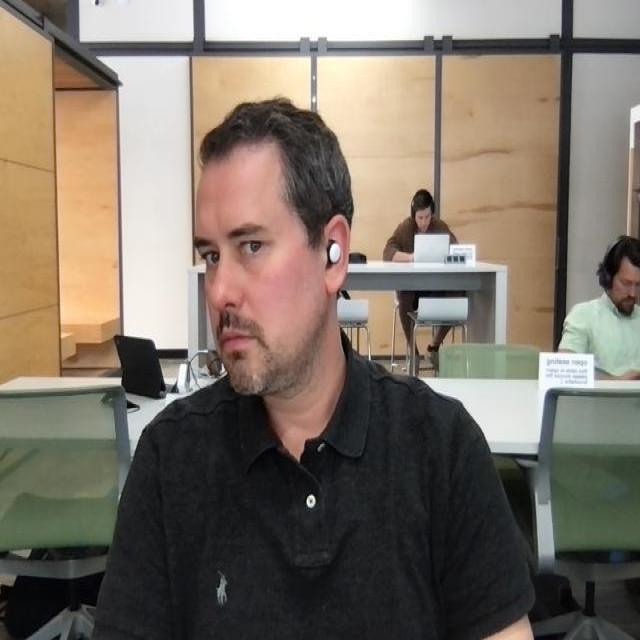face: (194, 101, 352, 411), (599, 234, 640, 318), (412, 190, 434, 233)
